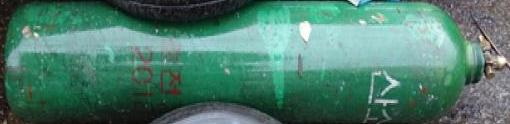cylinder: (1, 0, 510, 124)
